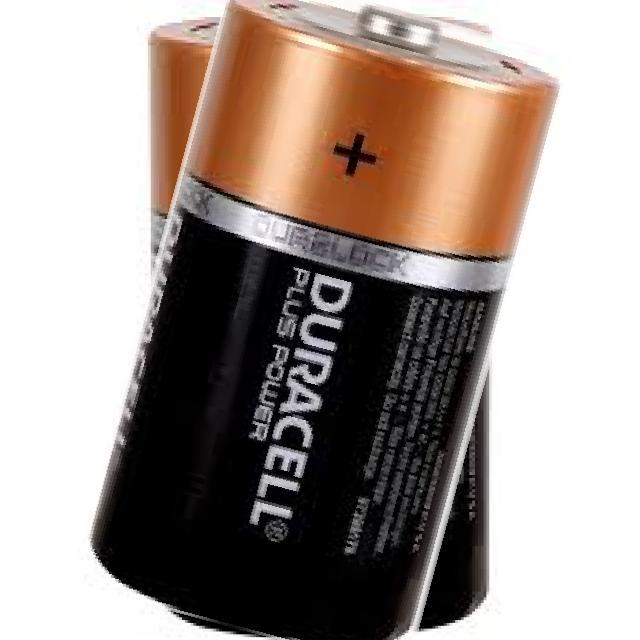Battery: (88, 0, 559, 639), (150, 0, 495, 639)
